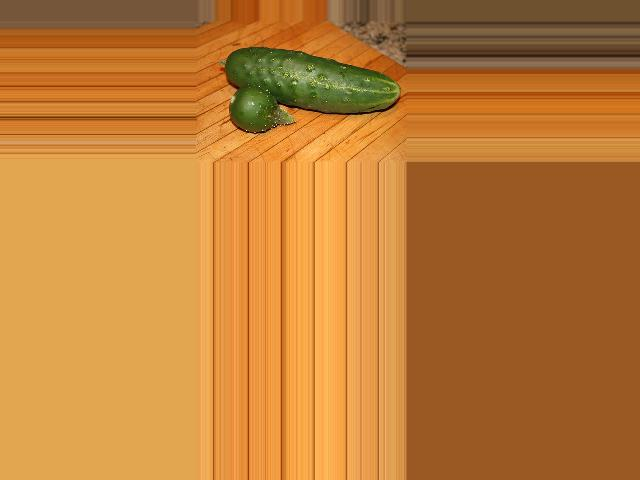cucumber: (224, 47, 401, 114)
